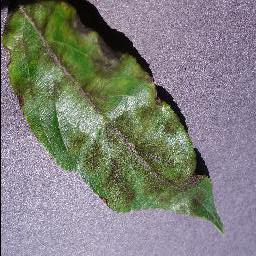apple healthy: (1, 0, 225, 234)
